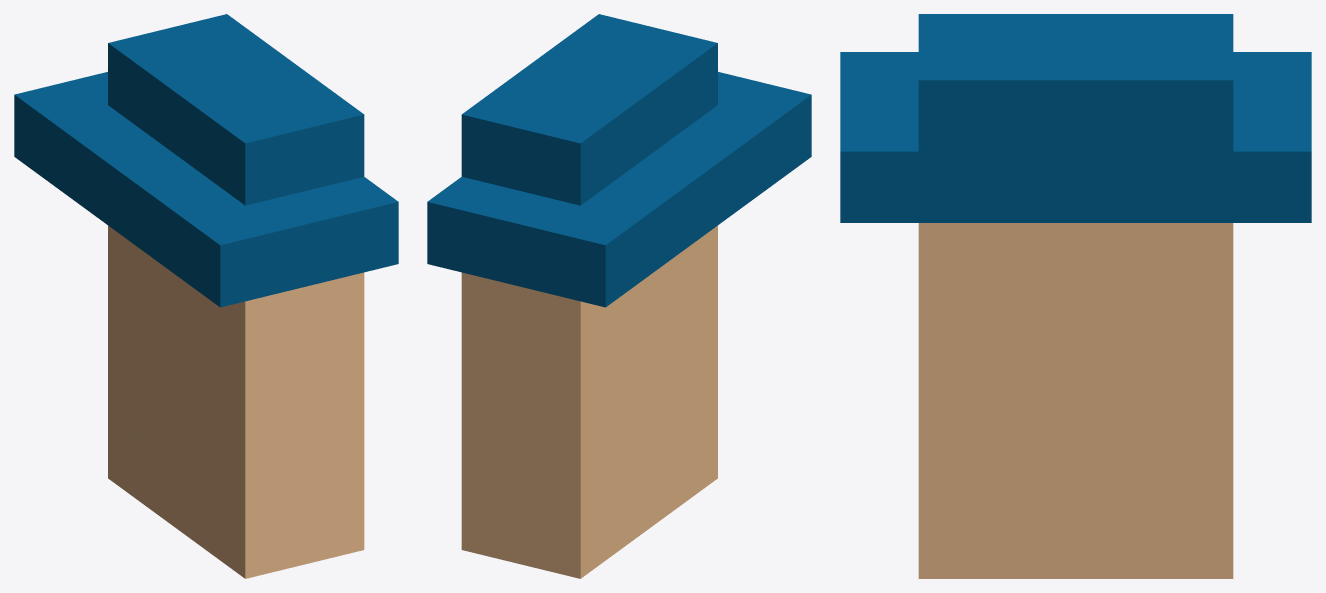
Rendered from BobRArm.obj.
The picture shows the model from 3 angles, left to right: view 1: azimuth 30°, elevation 25°; view 2: azimuth 150°, elevation 25°; view 3: azimuth 270°, elevation 25°; orthographic projection. The views are drawn at different scales.
Size of the model in its own units: 0.3 by 0.7 by 0.6.
1 material, 1 textured.
